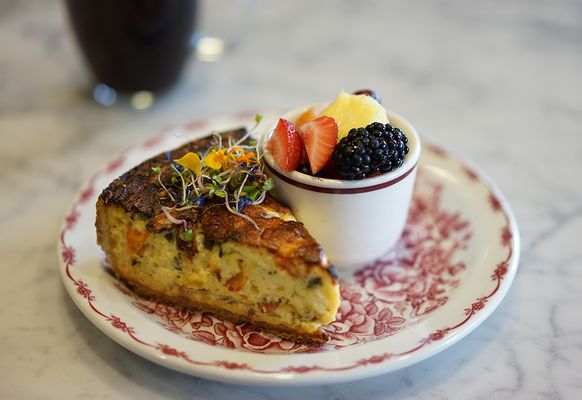pizza: (62, 1, 197, 111)
soup: (92, 126, 342, 336)
sushi: (260, 95, 421, 272)
